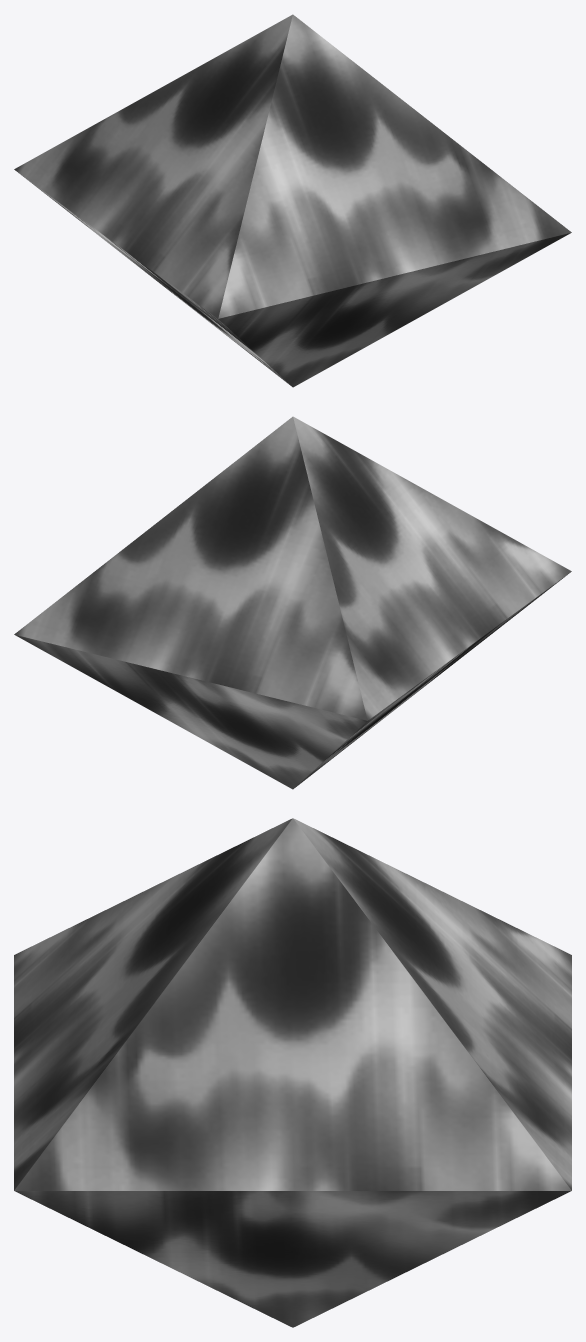
Rendered from x1_E_modle_py_177.FBX.
The picture shows the model from 3 angles, top to bottom: view 1: azimuth 30°, elevation 25°; view 2: azimuth 150°, elevation 25°; view 3: azimuth 270°, elevation 25°; orthographic projection. The views are drawn at different scales.
Visible parts, largest first — view 1: Pyramid001; view 2: Pyramid001; view 3: Pyramid001.
Part boxes in pixels (x1,y1,x2,y2): Pyramid001: (14, 14, 571, 387); Pyramid001: (14, 416, 571, 789); Pyramid001: (14, 818, 571, 1327).
Bounding box in the file's own units: 20 × 20.16 × 20.
Materials: 1 (1 with a texture image).
